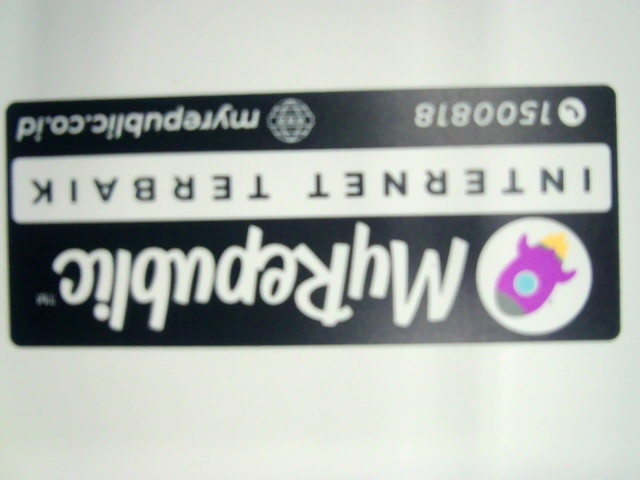BD_MyRepublic: (4, 99, 632, 341)
